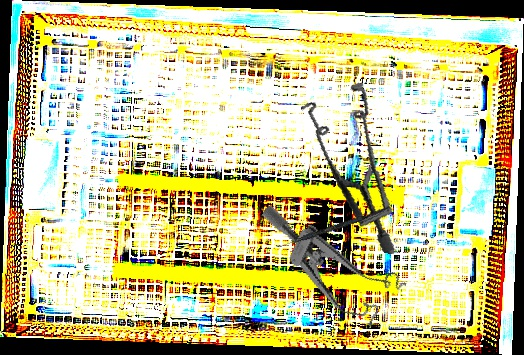Spatula Surgical: (275, 206, 385, 252)
Speculum: (273, 71, 431, 255), (238, 203, 414, 334)
